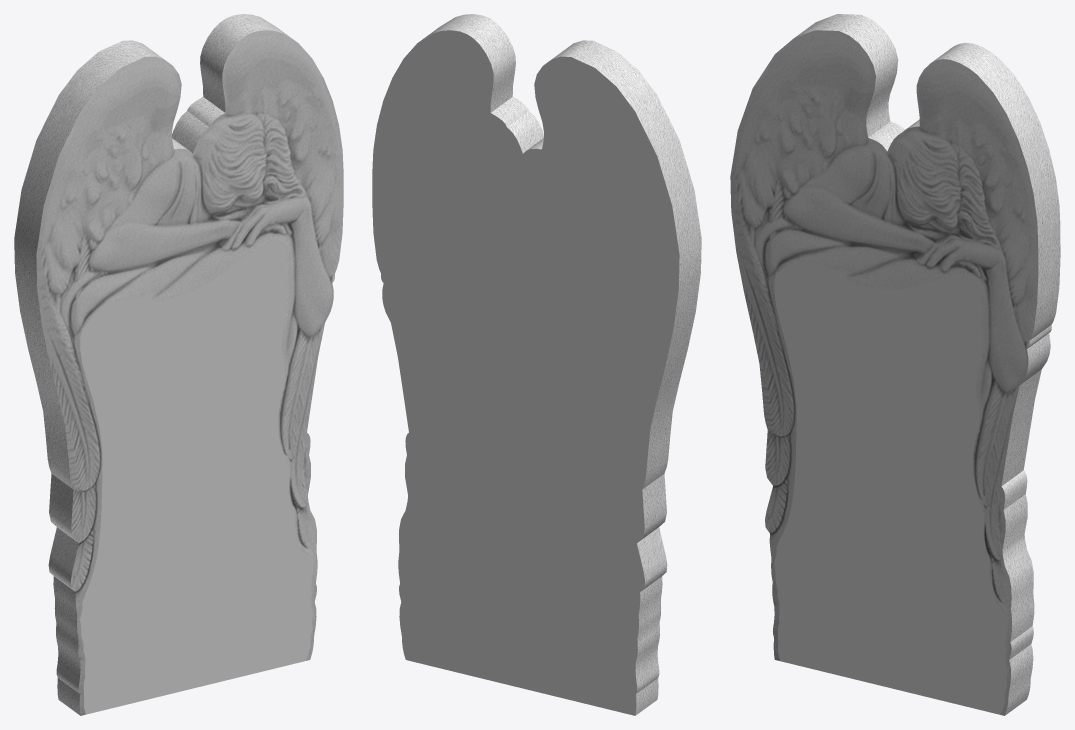
Rendered from cne716bf3edd_tkf.glb.
3 views of the same model, side by side, from view 1: azimuth 30°, elevation 25°; view 2: azimuth 150°, elevation 25°; view 3: azimuth 330°, elevation 25° (orthographic).
Visible parts, largest first — view 1: Pam-d01-024_2_notexture, Pam-d01-024; view 2: Pam-d01-024, Pam-d01-024_2_notexture; view 3: Pam-d01-024_2_notexture, Pam-d01-024.
Part boxes in pixels (bbox=[...]): Pam-d01-024_2_notexture: bbox=[14, 14, 343, 715]; Pam-d01-024: bbox=[80, 241, 313, 714]; Pam-d01-024: bbox=[372, 30, 679, 715]; Pam-d01-024_2_notexture: bbox=[418, 14, 701, 715]; Pam-d01-024_2_notexture: bbox=[730, 14, 1060, 715]; Pam-d01-024: bbox=[774, 261, 1007, 714].
Bounding box in the file's own units: 0.4 × 0.8 × 0.05.
Materials: 1 (1 with a texture image).
